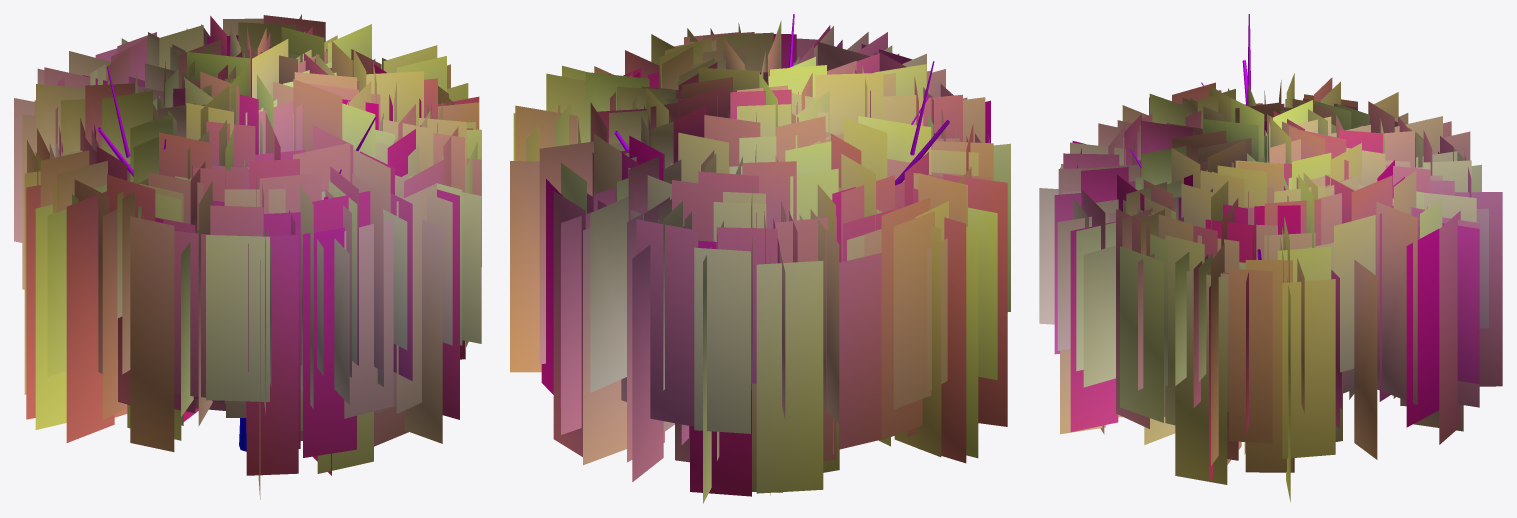
Rendered from willow_a_LODs.glb.
The picture shows the model from 3 angles, left to right: view 1: azimuth 30°, elevation 25°; view 2: azimuth 150°, elevation 25°; view 3: azimuth 270°, elevation 25°; orthographic projection. The views are drawn at different scales.
Visible parts, largest first — view 1: willow_a_LOD0; view 2: willow_a_LOD0; view 3: willow_a_LOD0.
Part boxes in pixels (x1,y1,x2,y2): willow_a_LOD0: (14, 14, 481, 499); willow_a_LOD0: (510, 14, 1010, 503); willow_a_LOD0: (1039, 14, 1502, 502).
Size of what is drawn, in the model's own units: 13.34 by 12.25 by 13.39.
